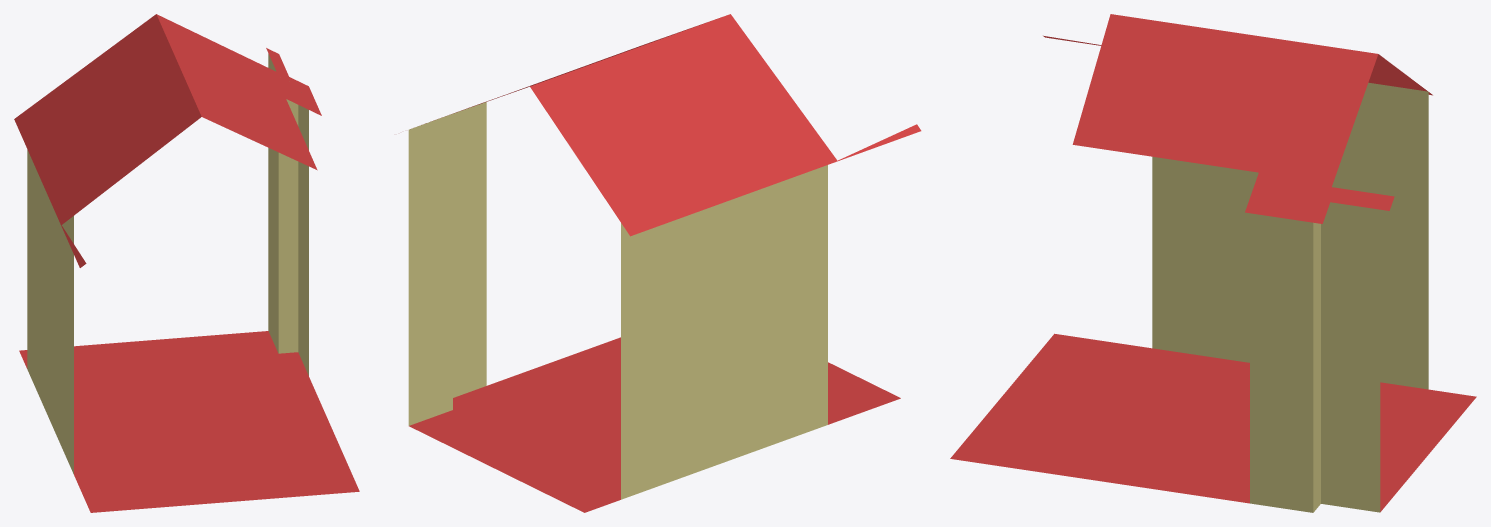
The picture shows the model from 3 angles, left to right: view 1: azimuth 30°, elevation 25°; view 2: azimuth 150°, elevation 25°; view 3: azimuth 270°, elevation 25°; orthographic projection. The views are drawn at different scales.
Size of the model in its own units: 15.1 by 17.17 by 14.22.
